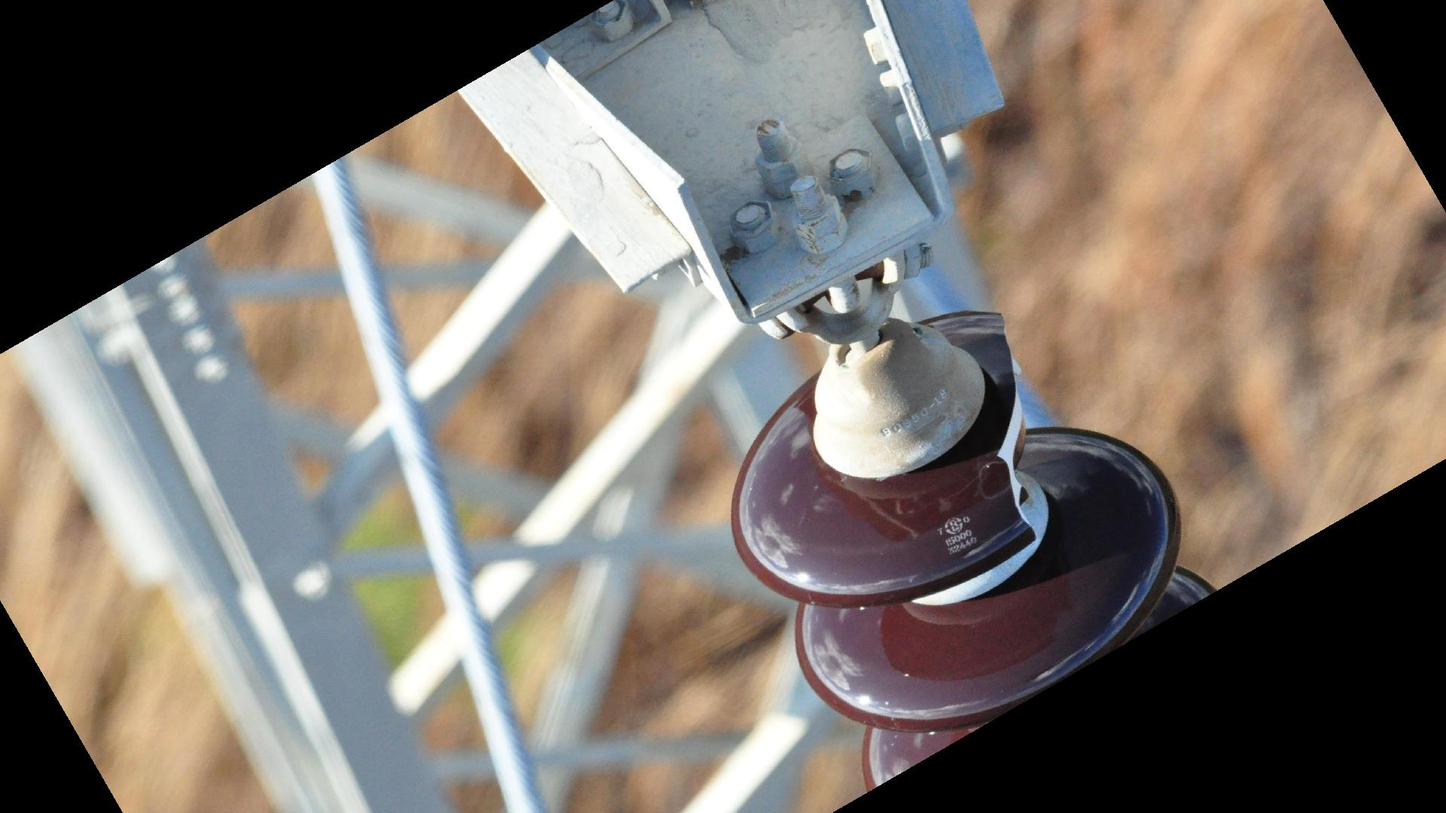insulator: (722, 301, 1226, 794)
insulator_breakage: (974, 303, 1048, 543)
